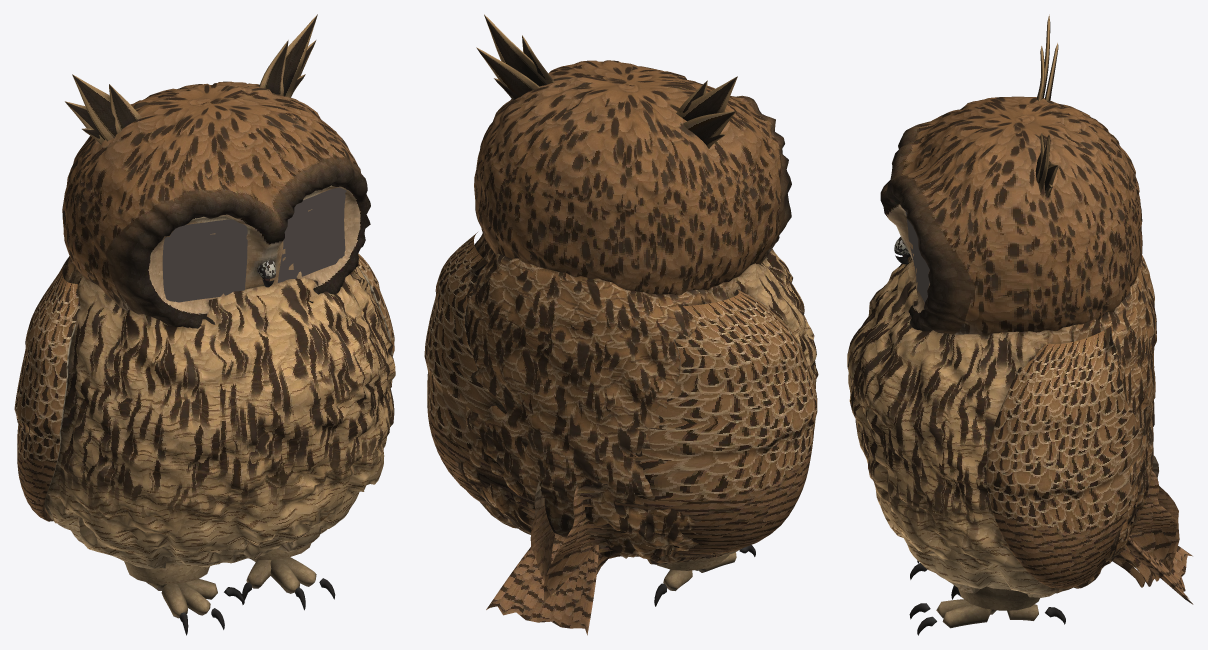
File: eagle.glb
The picture shows the model from 3 angles, left to right: view 1: azimuth 30°, elevation 25°; view 2: azimuth 150°, elevation 25°; view 3: azimuth 270°, elevation 25°; orthographic projection. The views are drawn at different scales.
Parts seen in each view (by area): view 1: body_mesh, head_mesh, wing_l_mesh, eye_l, eye_r, tuft_l0_mesh, leg_l_mesh, tuft_r0_mesh, wing_r_mesh, tuft_r2_mesh, tuft_l2_mesh, leg_rt1_mesh (+2 smaller); view 2: head_mesh, body_mesh, wing_l_mesh, wing_r_mesh, tail_mesh, tuft_r0_mesh, tuft_l0_mesh, tuft_r1_mesh, tuft_l1_mesh, leg_l_mesh; view 3: head_mesh, body_mesh, wing_r_mesh, tail_mesh, leg_r_mesh, leg_rt0_mesh, eye_r, wing_l_mesh.
Part boxes in pixels (x1,y1,x2,y2): body_mesh: (44,256,395,569); head_mesh: (62,81,370,328); wing_l_mesh: (14,266,80,521); eye_l: (162,219,247,302); eye_r: (278,187,346,282); tuft_l0_mesh: (72,74,141,141); leg_l_mesh: (124,561,209,584); tuft_r0_mesh: (259,14,317,97); wing_r_mesh: (358,253,394,356); tuft_r2_mesh: (259,40,288,96); tuft_l2_mesh: (109,84,141,134); leg_rt1_mesh: (270,558,299,593); head_mesh: (474,60,791,295); body_mesh: (458,233,818,564); wing_l_mesh: (543,289,817,602); wing_r_mesh: (424,232,554,598); tail_mesh: (486,533,599,635); tuft_r0_mesh: (484,14,554,86); tuft_l0_mesh: (676,76,737,121); tuft_r1_mesh: (476,47,539,97); tuft_l1_mesh: (683,111,736,140); leg_l_mesh: (657,554,728,570); head_mesh: (880,96,1142,336); body_mesh: (847,255,1156,597); wing_r_mesh: (986,326,1177,588); tail_mesh: (1126,537,1193,604); leg_r_mesh: (958,586,1039,610); leg_rt0_mesh: (942,604,991,628); eye_r: (905,212,929,303); wing_l_mesh: (1152,455,1179,571).
Size of the model in its own units: 41.26 by 57.25 by 34.19.
2 materials, 1 textured.
